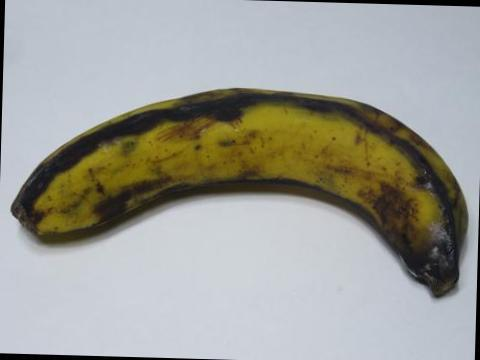overripe: (0, 74, 479, 312)
